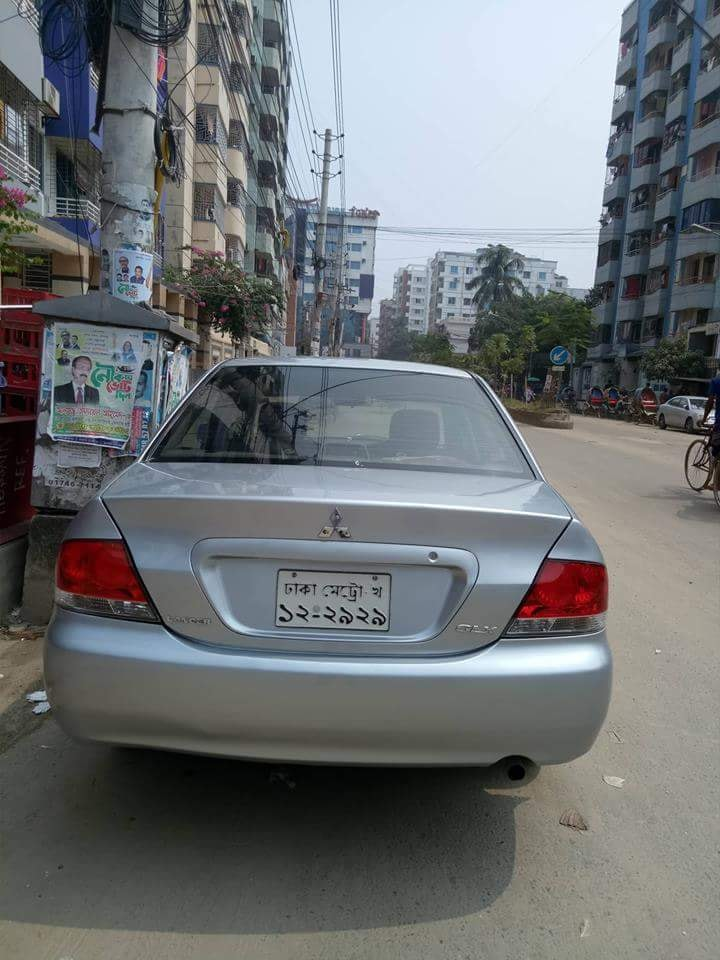registration_plate: (274, 568, 391, 632)
